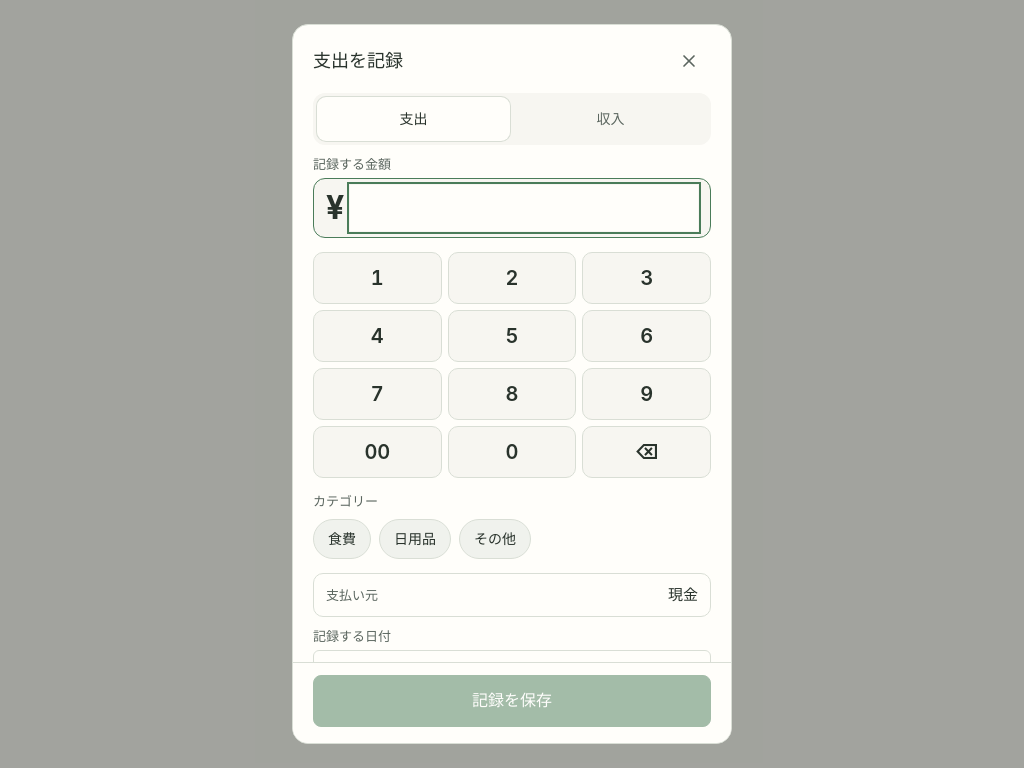
Test: QuickAddSheet › swaps the chips and the account label when switching to income
Check: the text "支払い元" is shown, box x1=326 y1=586 x2=378 y2=604
Check: the button "食費" is shown, box x1=313 y1=519 x2=371 y2=559
Click the button "収入".
click(610, 119)  # box x1=514 y1=97 x2=707 y2=141
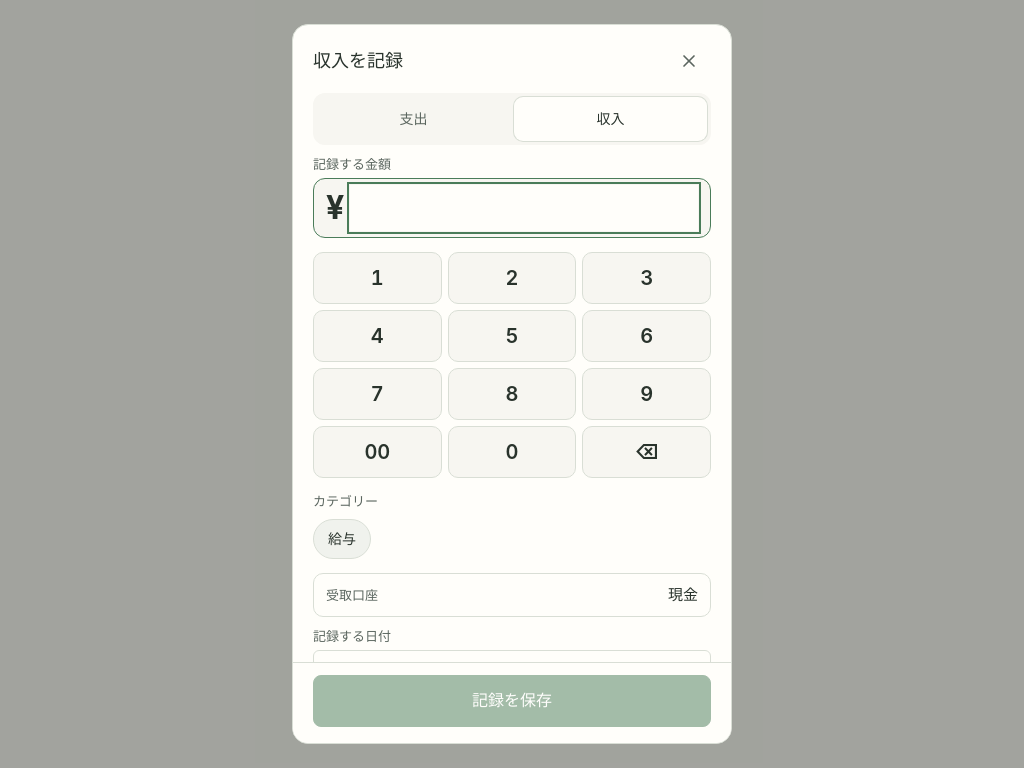
Check: the dialog "収入を記録" is shown, box x1=292 y1=24 x2=732 y2=744
Check: the button "給与" is shown, box x1=313 y1=519 x2=371 y2=559
Check: the button "食費" is gone
